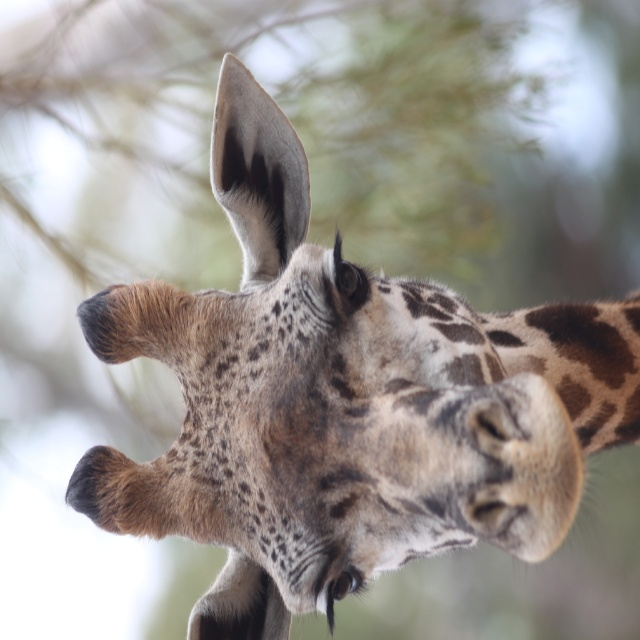Giraffe: (65, 50, 640, 639)
